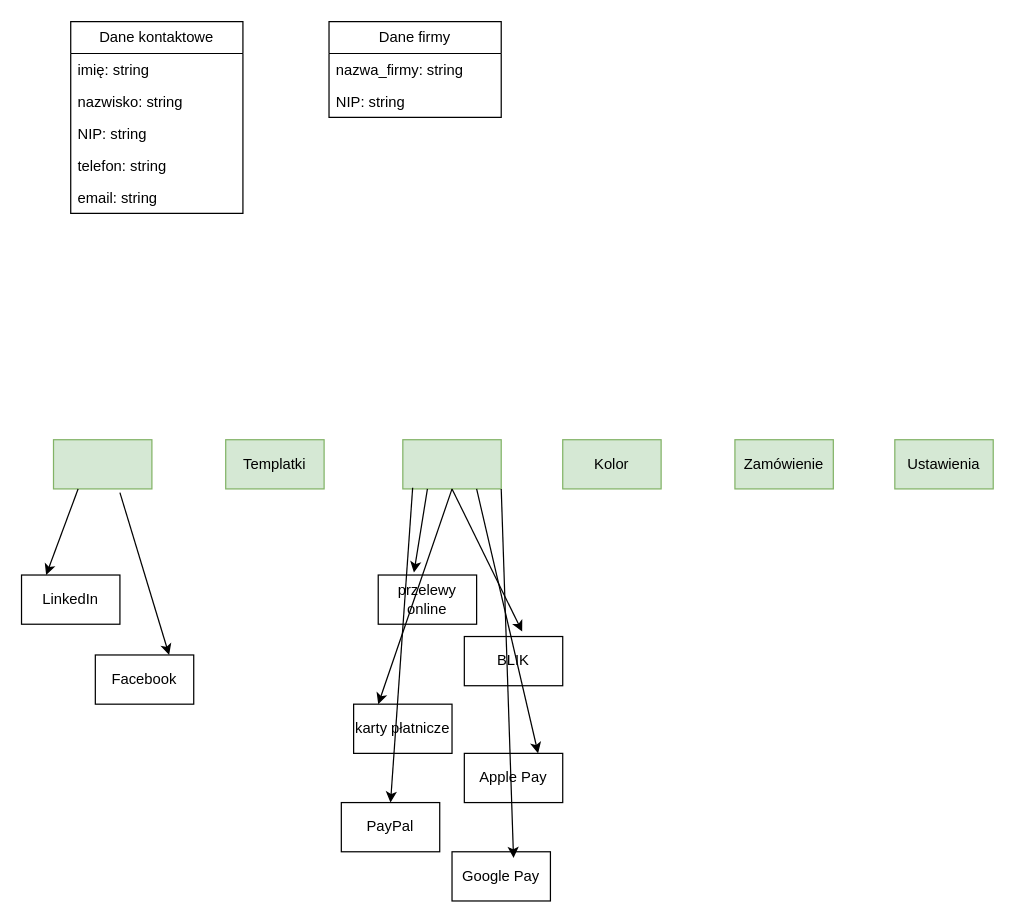
This 1015x923 diagram has some shape labels left out. The shapes that lost their labels are listed below. From the top down, each one's centre as x and y in pixels, then its label:
At point (102, 463): "Integracje".
At point (451, 463): "Płatność".
